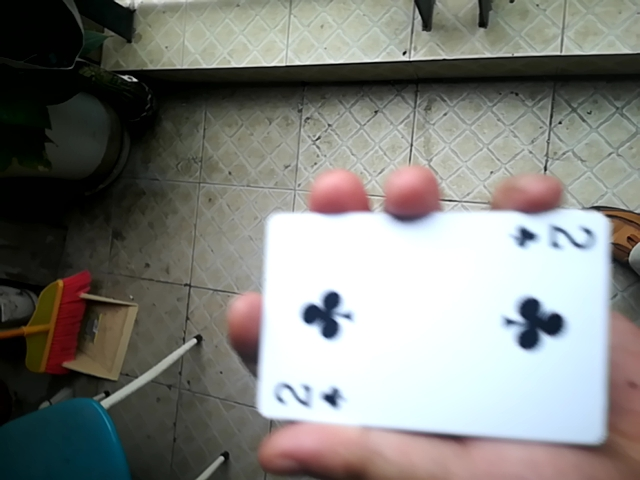mh 2: (249, 212, 611, 447)
